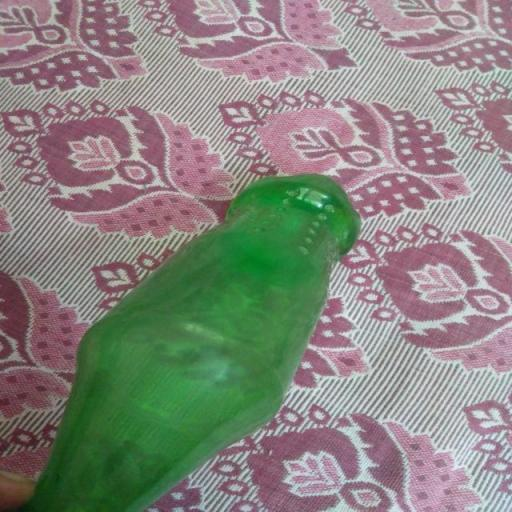plastic: (16, 174, 363, 512)
